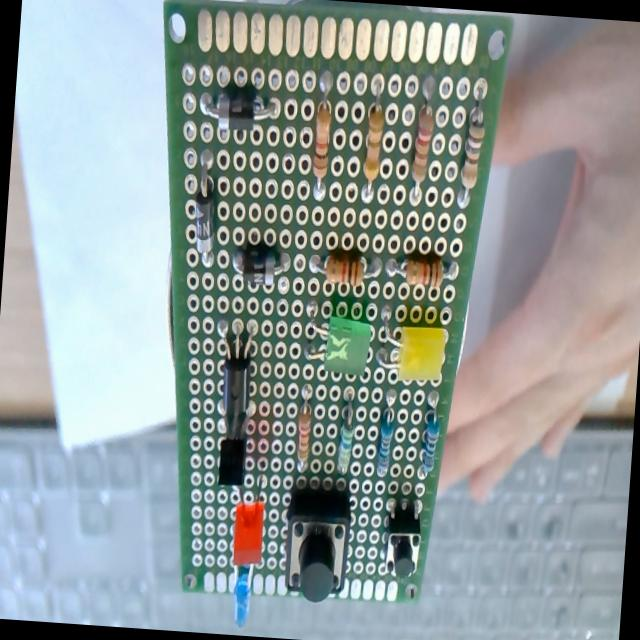diode: (193, 82, 284, 134), (232, 233, 298, 294), (190, 165, 220, 265)
led: (372, 316, 448, 389), (300, 307, 370, 383), (226, 480, 270, 568), (224, 560, 260, 624)
resistor: (406, 70, 442, 204), (306, 68, 341, 196), (380, 243, 462, 295), (452, 99, 490, 209), (358, 75, 392, 196), (288, 384, 320, 477), (306, 248, 380, 286), (368, 392, 396, 484), (412, 408, 444, 476), (338, 393, 360, 477)
switch: (277, 479, 356, 602), (377, 503, 424, 587)
transistor: (208, 336, 260, 434), (210, 428, 250, 488)
